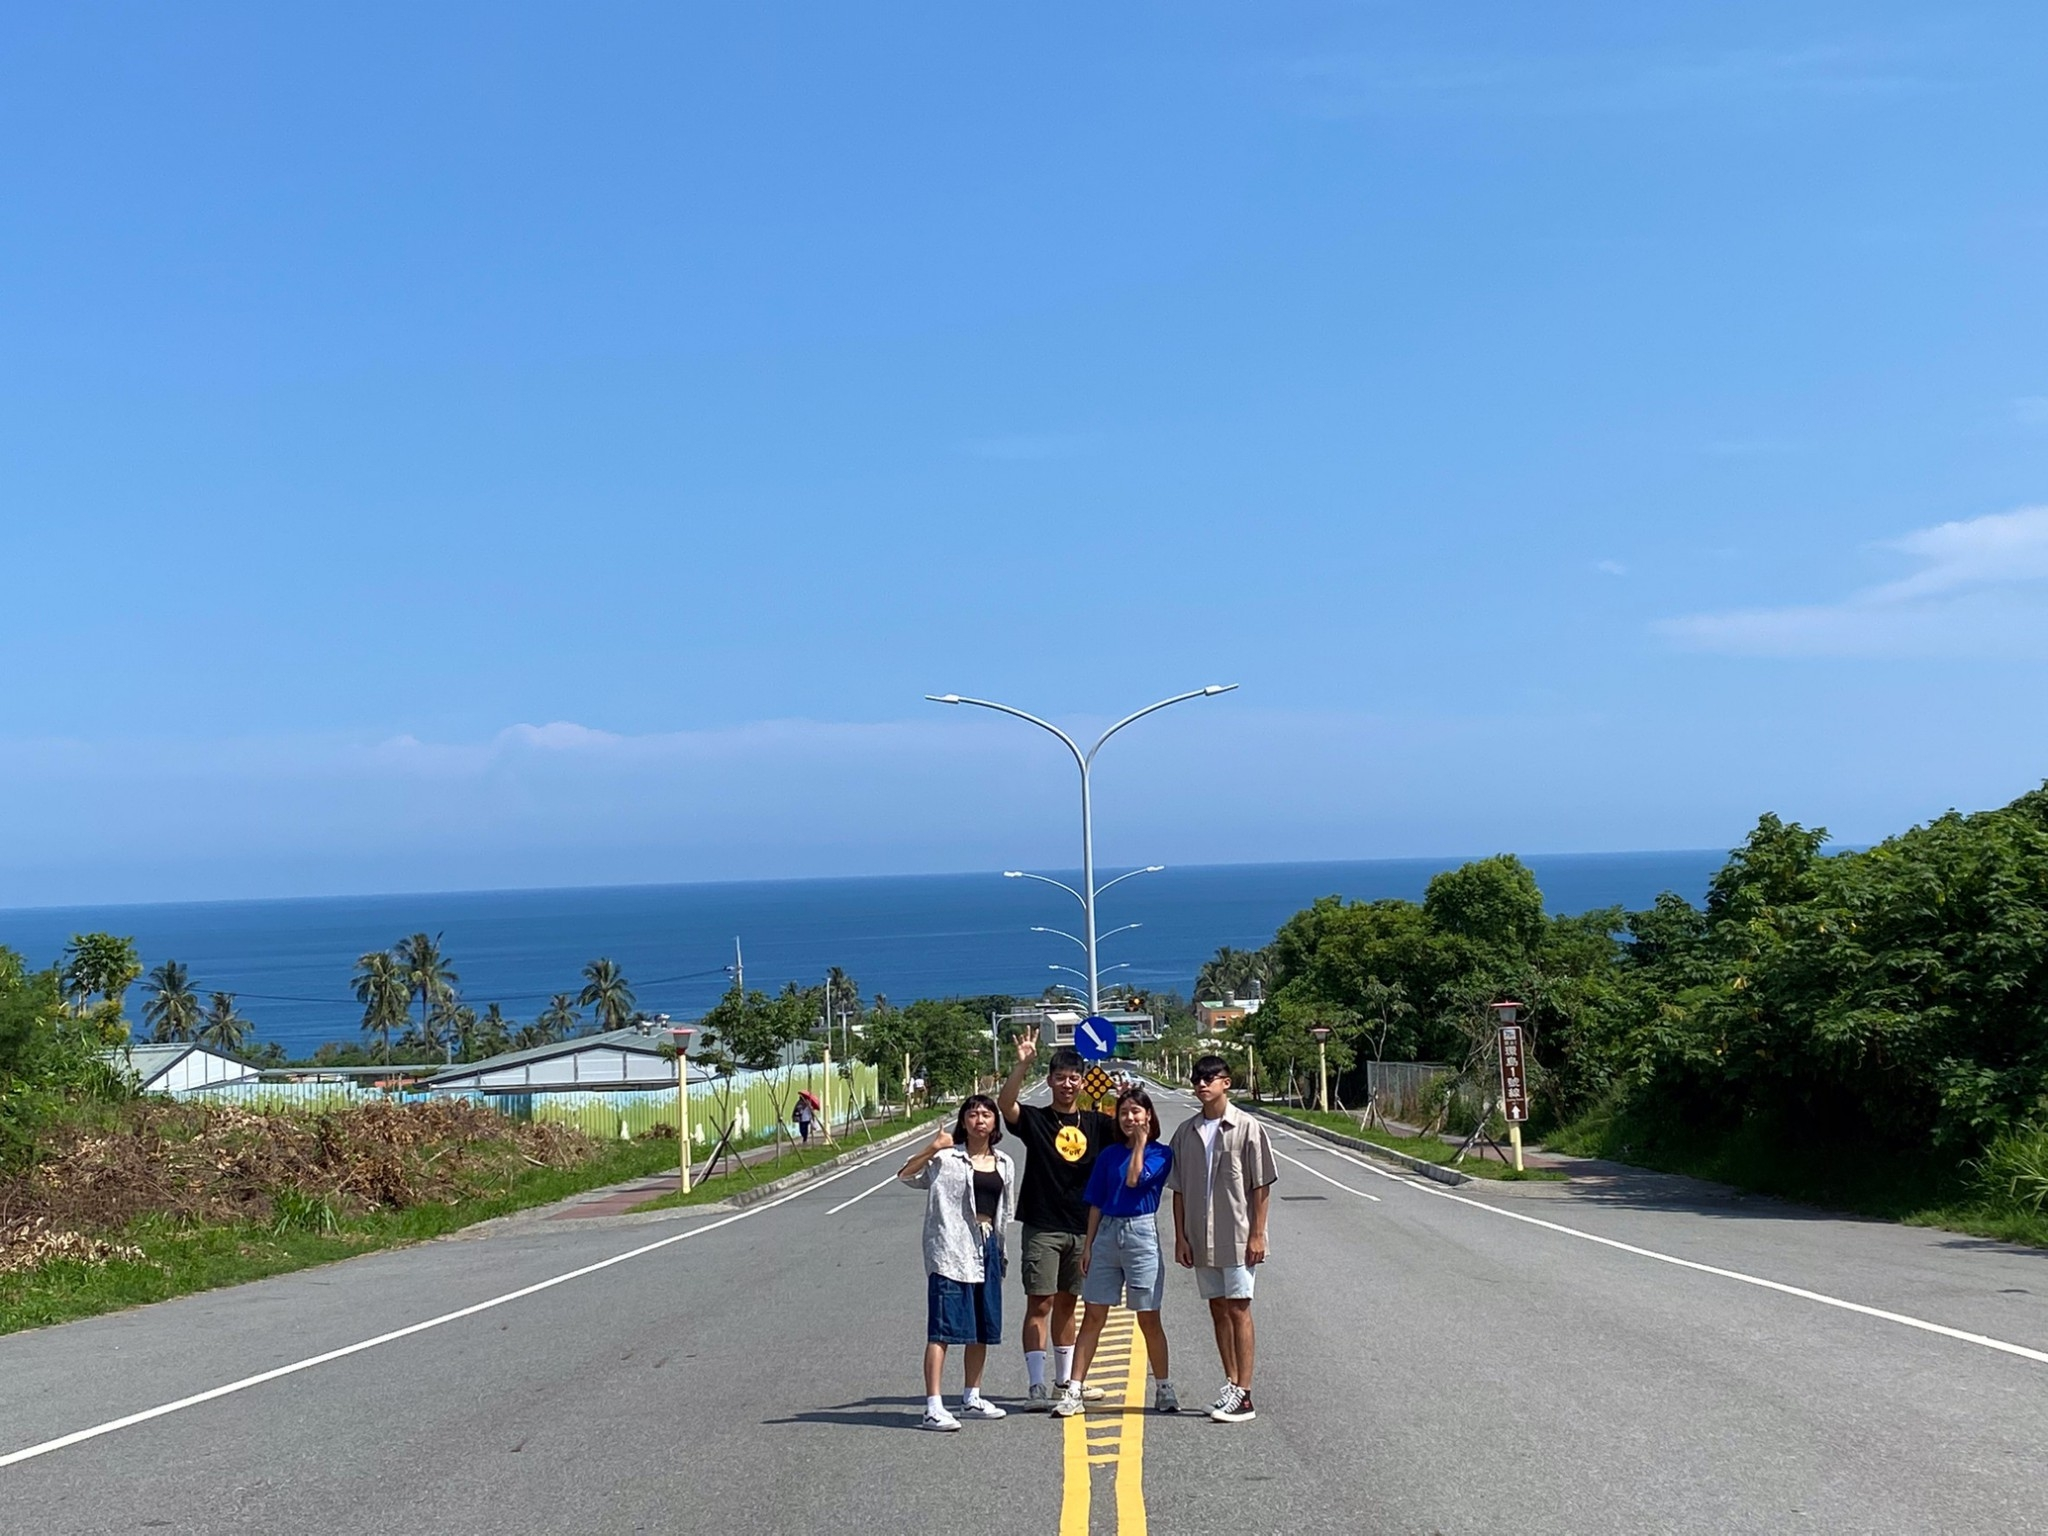people: (1178, 1063, 1269, 1428), (1084, 1078, 1184, 1402), (913, 1099, 1007, 1434), (1025, 1058, 1090, 1408), (787, 1090, 813, 1128)
